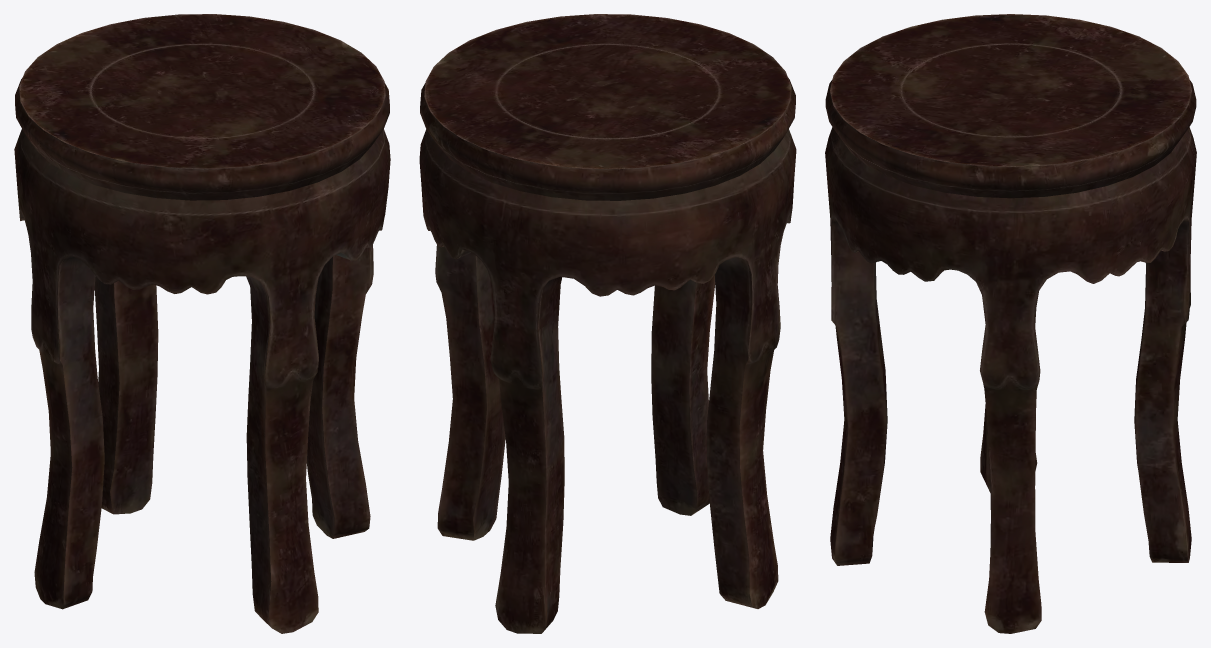
Rendered from WoodenTable_02.glb.
3 views of the same model, side by side, from view 1: azimuth 30°, elevation 25°; view 2: azimuth 150°, elevation 25°; view 3: azimuth 270°, elevation 25° (orthographic).
Parts seen in each view (by area): view 1: WoodenTable_02; view 2: WoodenTable_02; view 3: WoodenTable_02.
Boxes of the visible parts, x1=… form: WoodenTable_02: x1=14, y1=14, x2=390, y2=633; WoodenTable_02: x1=419, y1=14, x2=796, y2=633; WoodenTable_02: x1=825, y1=14, x2=1196, y2=633.
Size of the model in its own units: 0.3007 by 0.4177 by 0.3007.
1 material, 1 textured.
